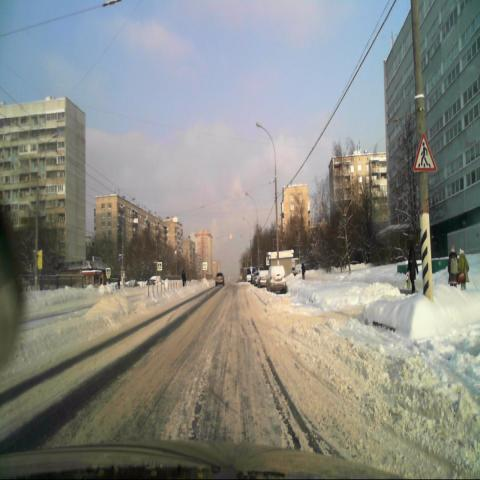1_22: (414, 130, 438, 173)
